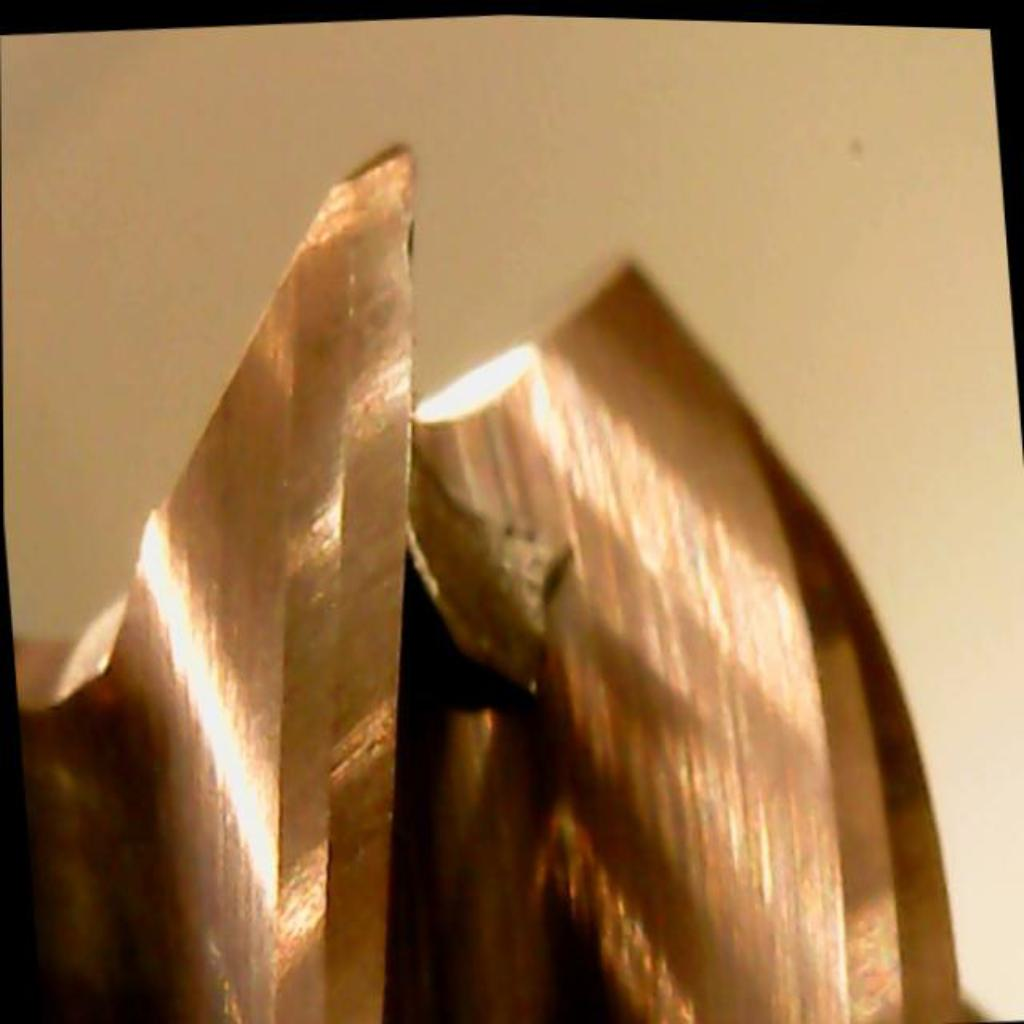Tool-wear-class-1: (284, 111, 462, 447)
